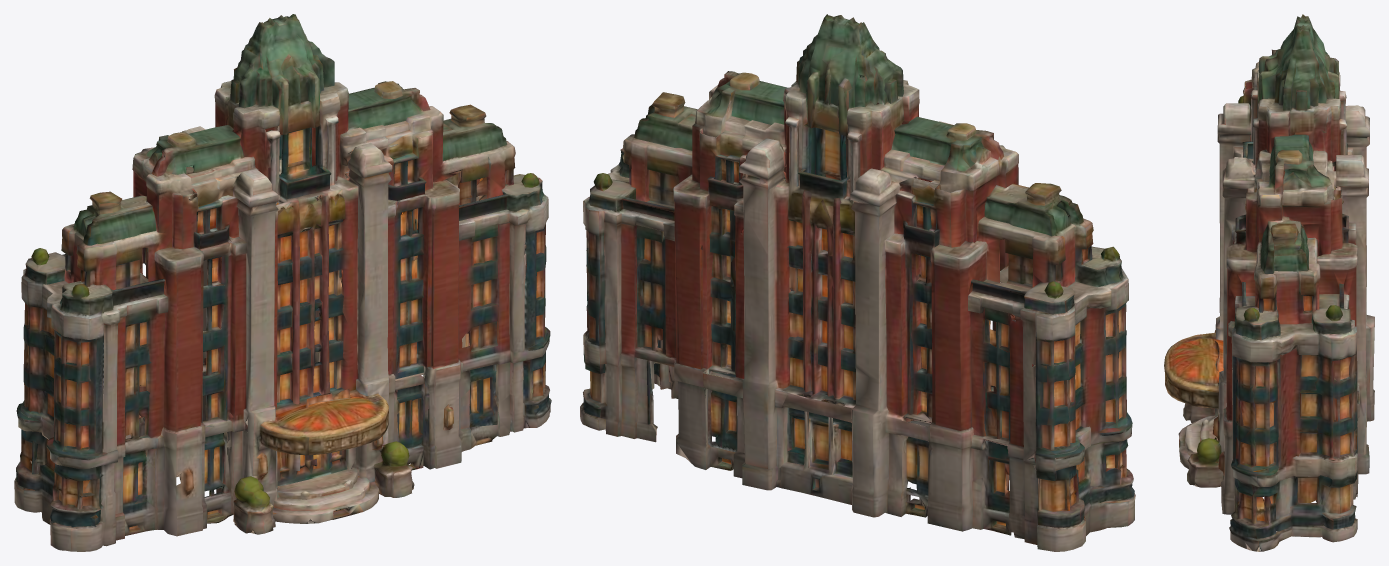
The picture shows the model from 3 angles, left to right: view 1: azimuth 30°, elevation 25°; view 2: azimuth 150°, elevation 25°; view 3: azimuth 270°, elevation 25°; orthographic projection. The views are drawn at different scales.
Parts seen in each view (by area): view 1: expansion__skyscraper_3__native_mobile; view 2: expansion__skyscraper_3__native_mobile; view 3: expansion__skyscraper_3__native_mobile.
Boxes of the visible parts, left/top/right/bottom form: expansion__skyscraper_3__native_mobile: left=14, top=14, right=551, bottom=551; expansion__skyscraper_3__native_mobile: left=580, top=14, right=1135, bottom=551; expansion__skyscraper_3__native_mobile: left=1164, top=14, right=1374, bottom=551.
Size of the model in its own units: 1 by 0.8605 by 0.3818.
1 material, 1 textured.
